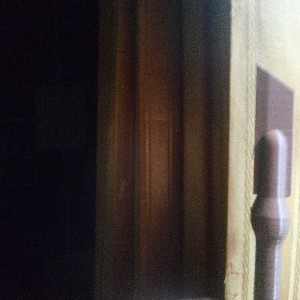cutter: (249, 63, 295, 300)
